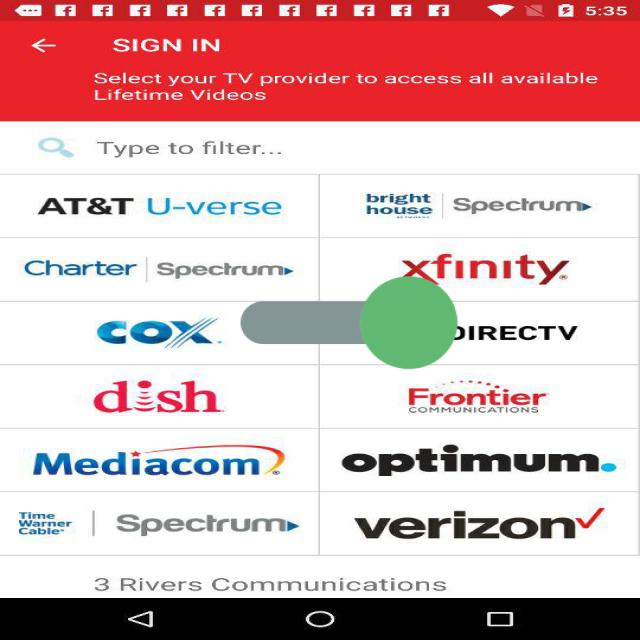social proof: (240, 219, 458, 426)
